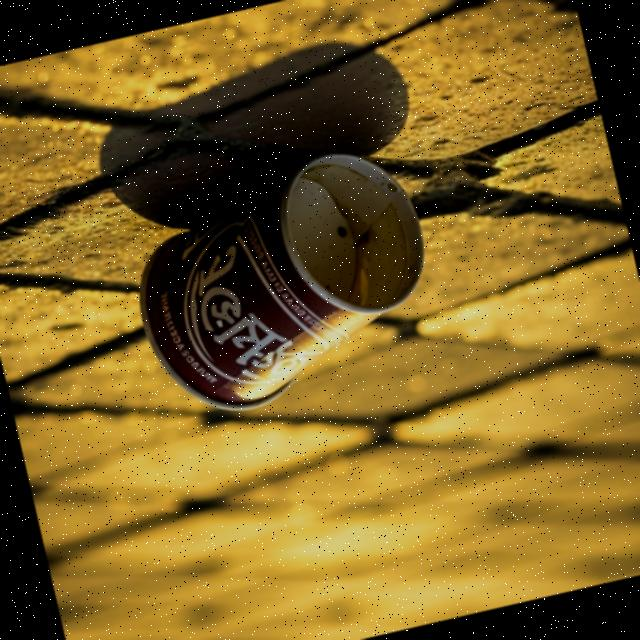paper: (112, 132, 454, 430)
